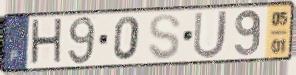0: (112, 15, 141, 63)
9: (66, 15, 98, 66), (233, 8, 263, 58)
H: (29, 16, 64, 68)
S: (146, 12, 182, 61)
U: (191, 8, 230, 60)
